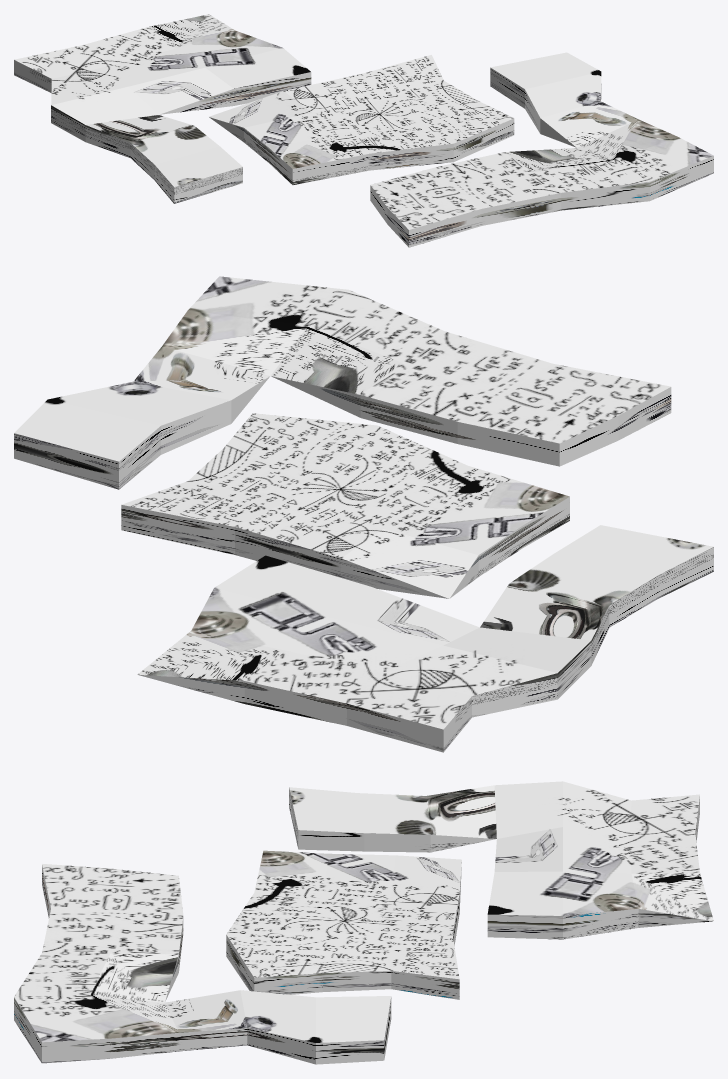
Rendered from piezas.fbx.
3 renders of one model, top to bottom at view 1: azimuth 30°, elevation 25°; view 2: azimuth 150°, elevation 25°; view 3: azimuth 270°, elevation 25°, orthographic. The views are drawn at different scales.
Parts seen in each view (by area): view 1: Cube, Cube.003, Cube.002; view 2: Cube, Cube.003, Cube.002; view 3: Cube.003, Cube, Cube.002.
Part boxes in pixels (box(x1,y1,x2,y2)): Cube: box(370, 52, 713, 247); Cube.003: box(14, 14, 311, 203); Cube.002: box(209, 55, 514, 184); Cube: box(14, 276, 671, 489); Cube.003: box(137, 525, 713, 752); Cube.002: box(121, 413, 569, 598); Cube.003: box(289, 781, 713, 939); Cube: box(14, 864, 391, 1064); Cube.002: box(226, 850, 461, 999).
Bounding box in the file's own units: 715 × 30.11 × 808.
